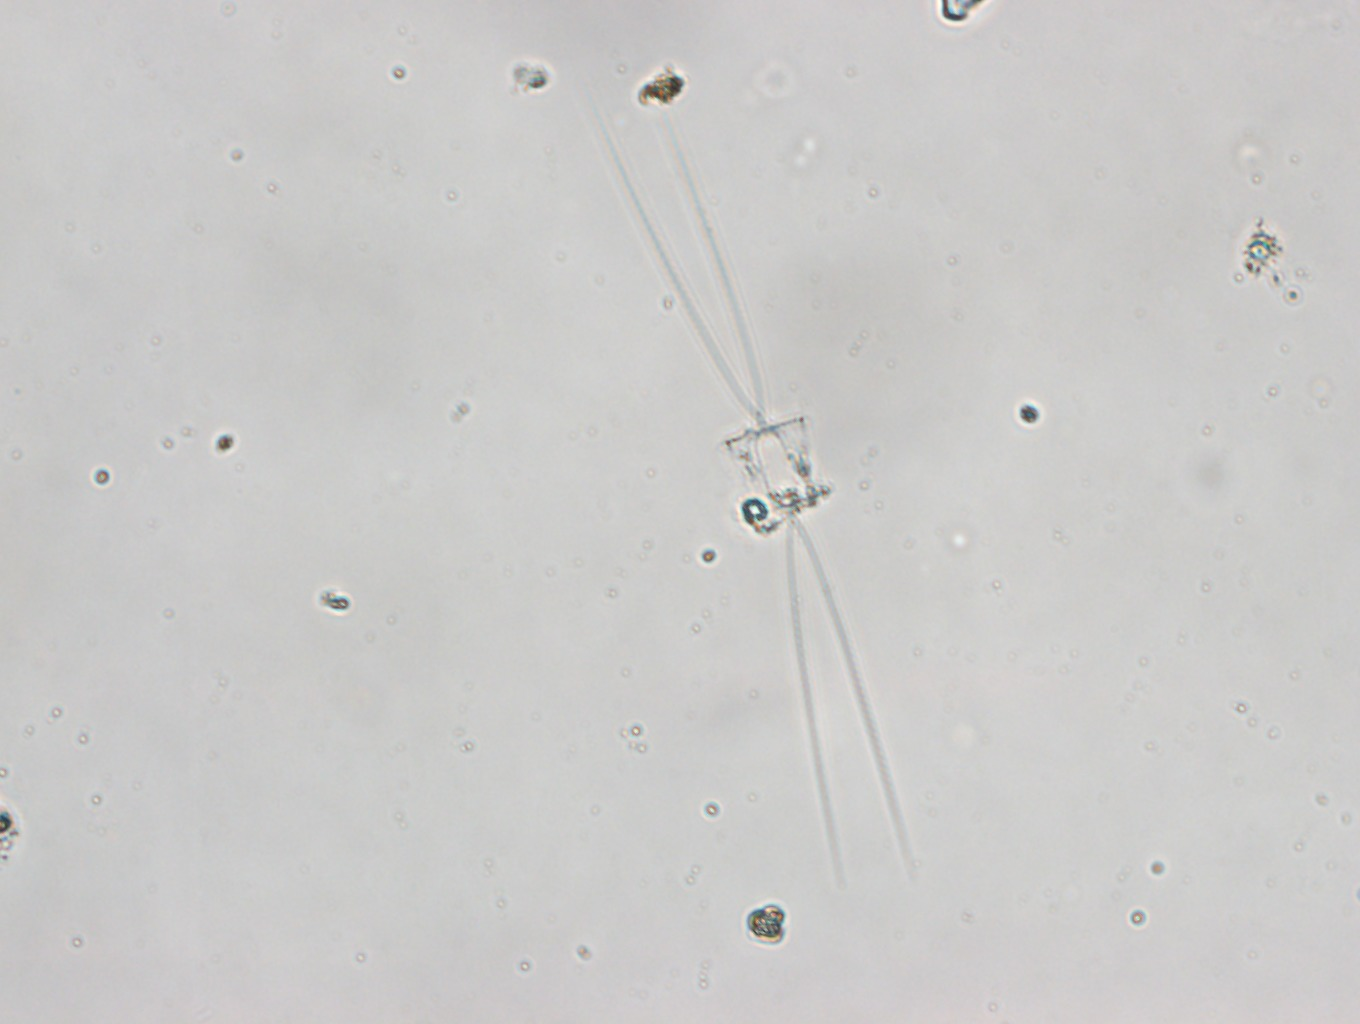chaetoceros: (589, 93, 915, 884)
